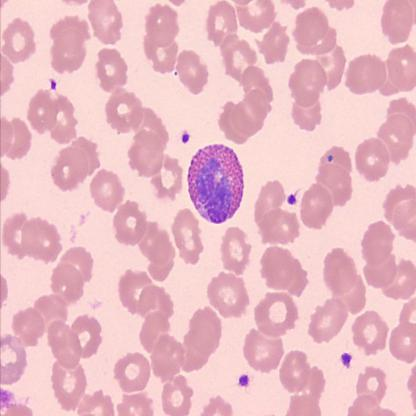Eosinophil: (189, 143, 243, 223)
